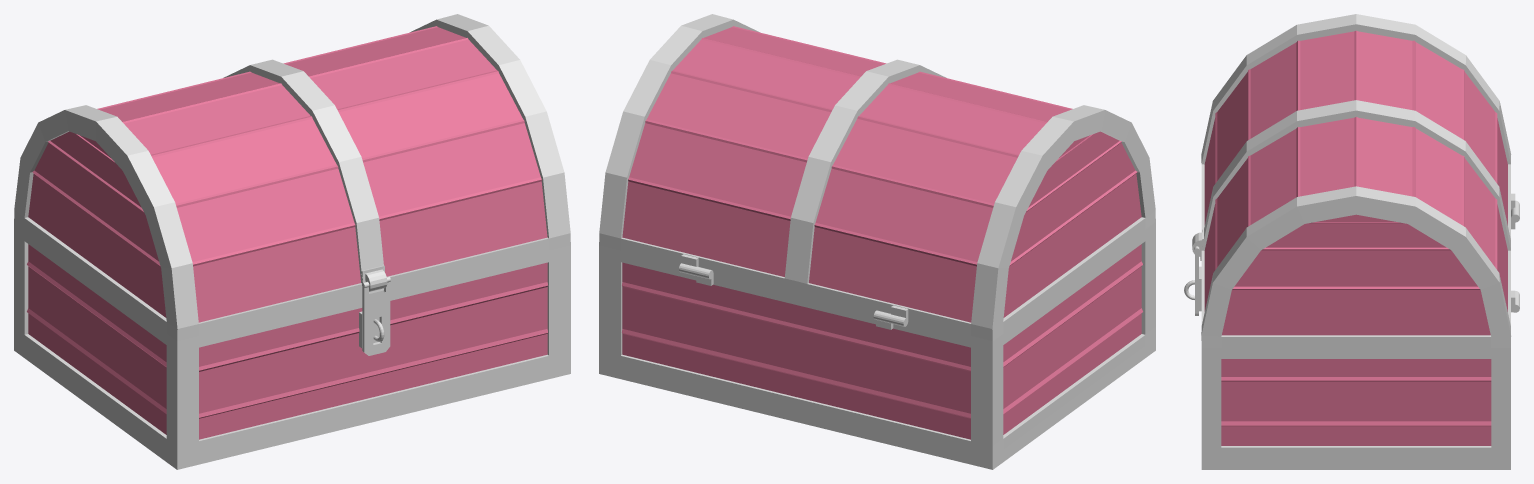
The model's file is OBJET_PREFERE.fbx.
3 views of the same model, side by side, from view 1: azimuth 30°, elevation 25°; view 2: azimuth 150°, elevation 25°; view 3: azimuth 270°, elevation 25° (orthographic). The views are drawn at different scales.
Visible parts, largest first — view 1: Haut, Bas, Cylinder.002; view 2: Haut, Bas; view 3: Haut, Bas.
Part boxes in pixels (x1,y1,x2,y2): Haut: [14, 14, 570, 340]; Bas: [14, 222, 570, 469]; Cylinder.002: [362, 276, 390, 355]; Haut: [599, 14, 1155, 340]; Bas: [599, 222, 1155, 469]; Haut: [1192, 14, 1519, 347]; Bas: [1184, 207, 1519, 469].
Size of the model in its own units: 293 by 205 by 228.
